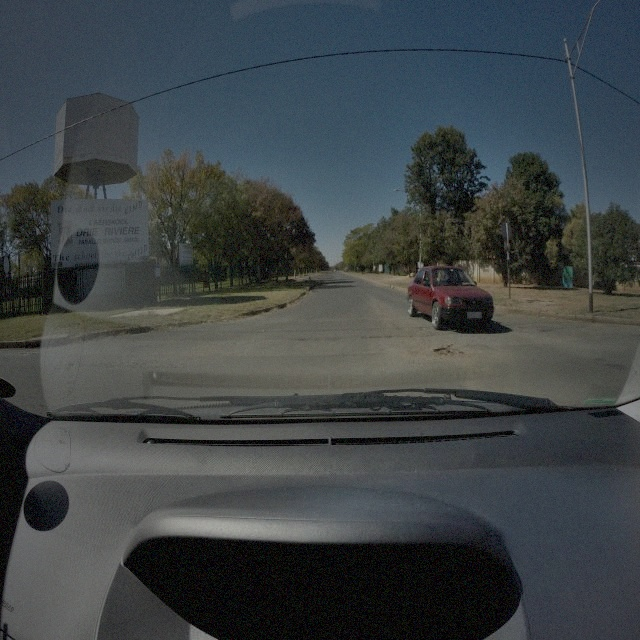pothole: (432, 344, 462, 358)
